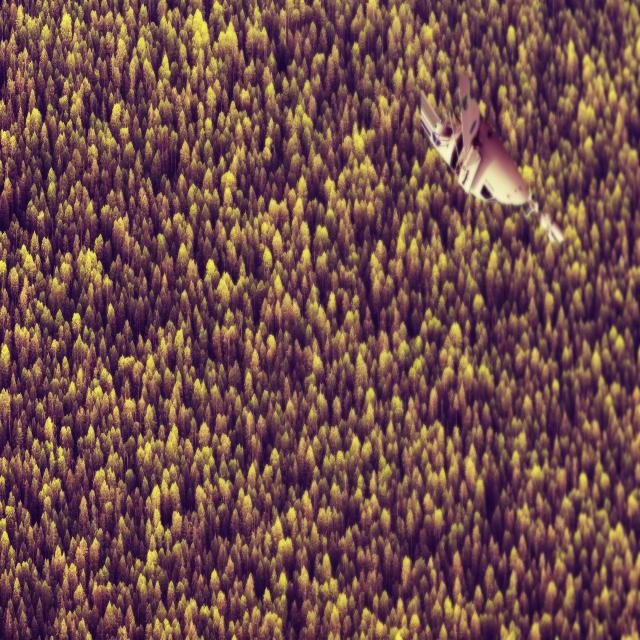airplane: (418, 73, 564, 245)
